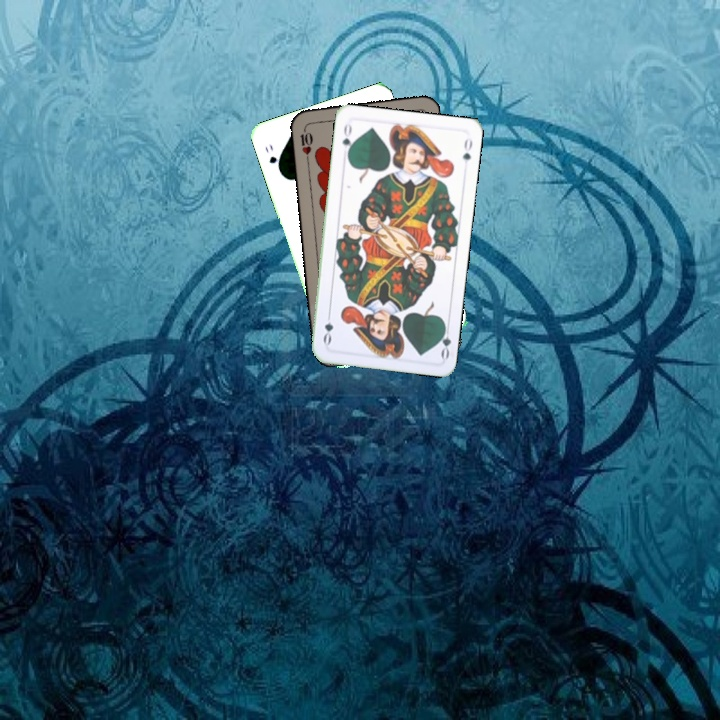GO: (434, 320, 454, 361), (261, 140, 283, 174), (338, 120, 355, 160)
H10: (296, 123, 315, 163)
